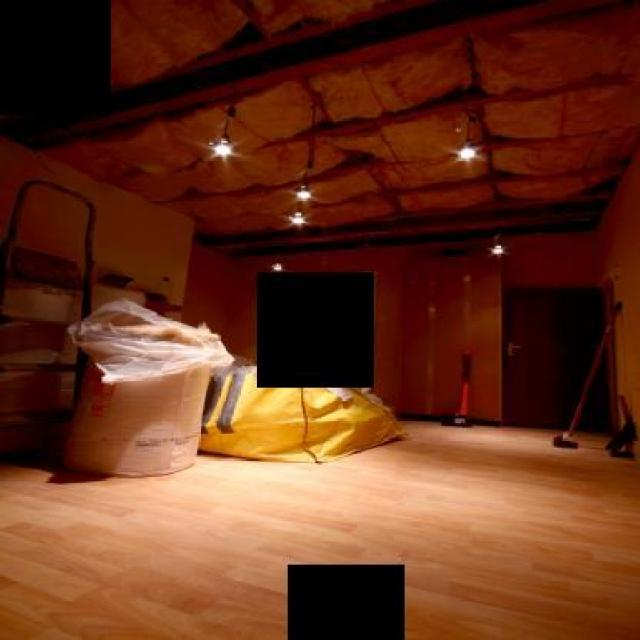plastic bag: (63, 300, 234, 386), (202, 354, 252, 384)
